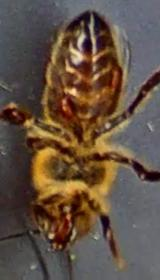varroa_mite: (106, 57, 130, 101), (50, 95, 80, 125)
